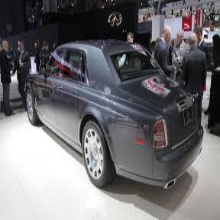no damage: (23, 40, 204, 193)
